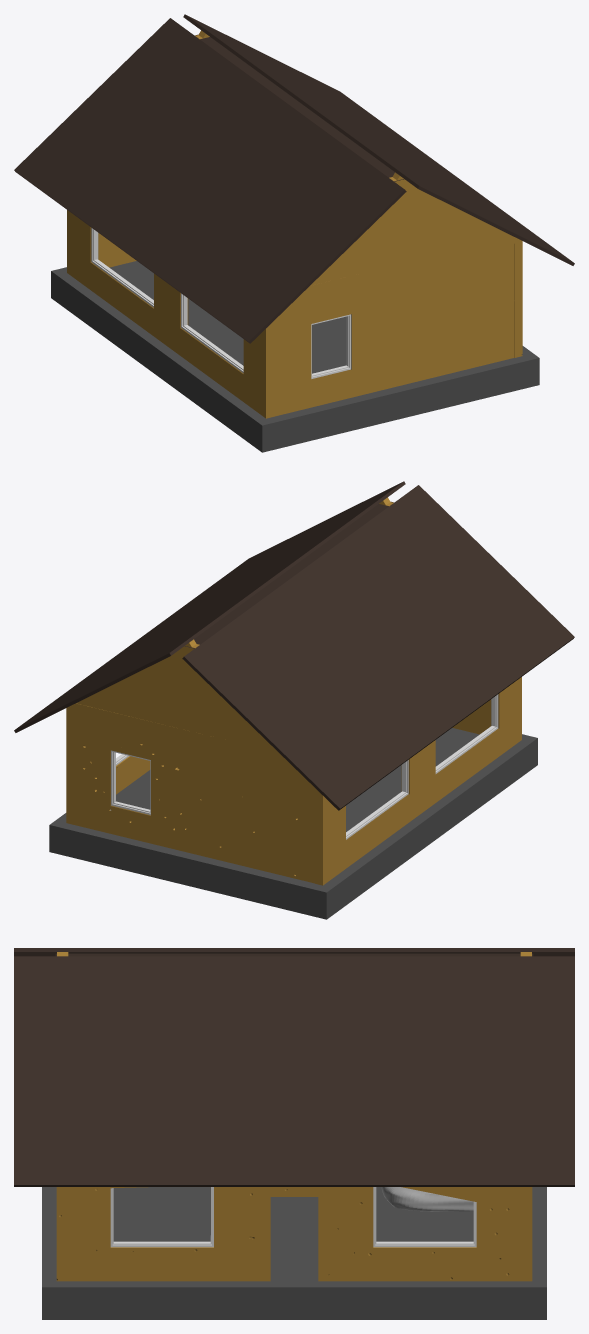
File: PoorMan'sRoom.fbx
3 renders of one model, top to bottom at view 1: azimuth 30°, elevation 25°; view 2: azimuth 150°, elevation 25°; view 3: azimuth 270°, elevation 25°, orthographic. The views are drawn at different scales.
Visible parts, largest first — view 1: Cube.058, Cube.003, Cube.004, Cube.057, Cube.002, Cube.101, Plane, Cube.100, Cube.098, Cube.001, Cube.099, Cube.087 (+2 smaller); view 2: Cube.058, Cube.005, Cube.004, Cube.057, Cube.002, Cube.059, Plane, Cube.060, Cube.001, Cube.062, Cube.061, Cube.003 (+2 smaller); view 3: Cube.057, Cube.004, Cube.001, Cube.058, Plane, Cube.055.
Part boxes in pixels (<box>): Cube.058: <box>14,18,406,343</box>; Cube.003: <box>274,239,515,416</box>; Cube.004: <box>51,261,539,452</box>; Cube.057: <box>183,14,574,265</box>; Cube.002: <box>67,210,274,418</box>; Cube.101: <box>378,177,410,268</box>; Plane: <box>195,34,404,181</box>; Cube.100: <box>409,196,441,261</box>; Cube.098: <box>347,219,378,276</box>; Cube.001: <box>514,237,522,357</box>; Cube.099: <box>440,209,466,254</box>; Cube.087: <box>459,213,501,245</box>; Cube.058: <box>182,485,574,810</box>; Cube.005: <box>74,703,314,883</box>; Cube.004: <box>49,728,537,919</box>; Cube.057: <box>14,481,405,732</box>; Cube.002: <box>314,677,521,885</box>; Cube.059: <box>179,644,210,735</box>; Plane: <box>184,501,393,648</box>; Cube.060: <box>147,663,179,728</box>; Cube.001: <box>66,704,150,824</box>; Cube.062: <box>210,686,241,743</box>; Cube.061: <box>122,675,148,720</box>; Cube.003: <box>452,699,490,734</box>; Cube.057: <box>14,956,574,1186</box>; Cube.004: <box>42,1187,546,1319</box>; Cube.001: <box>56,1187,532,1281</box>; Cube.058: <box>14,948,574,956</box>; Plane: <box>55,953,533,956</box>; Cube.055: <box>381,1187,473,1211</box>.
Bounding box in the file's own units: 3799 × 2668 × 4733.
